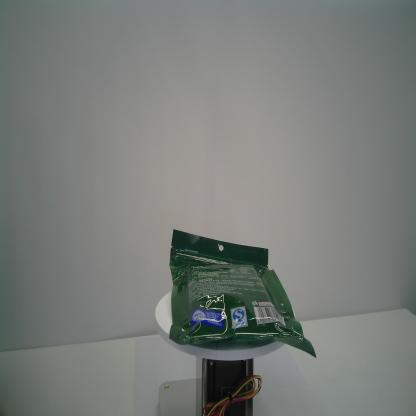Dried Food: (168, 228, 317, 360)
